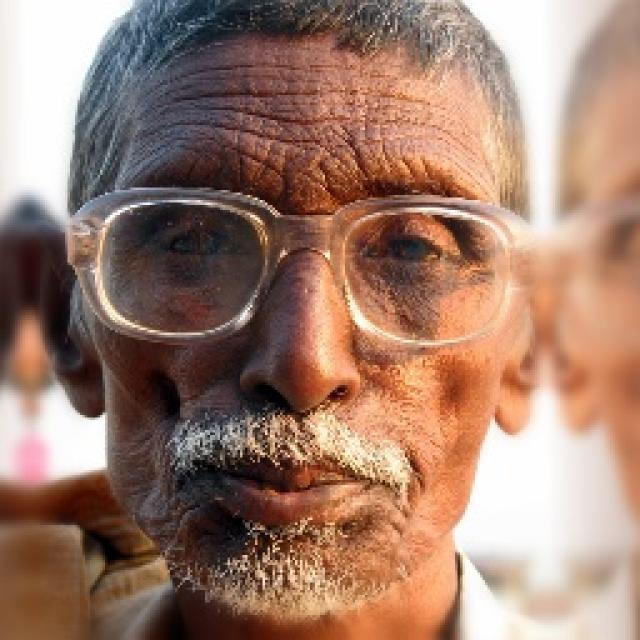glasses: (56, 174, 532, 363)
